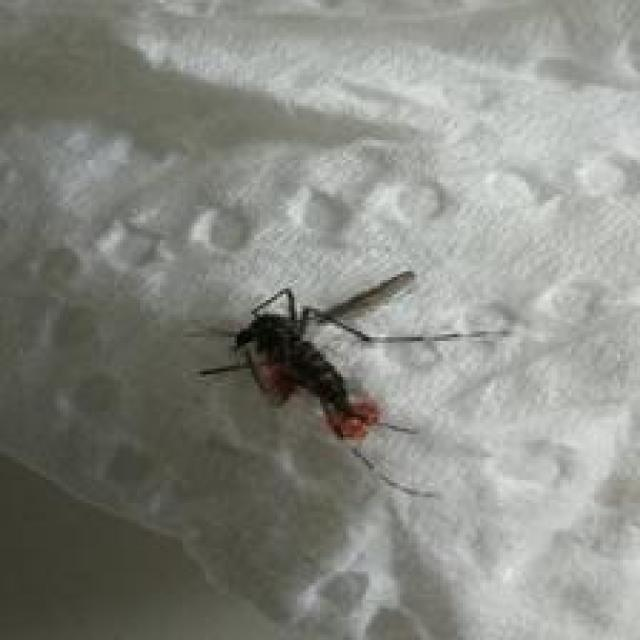Aedes albopictus: (184, 269, 510, 500)
